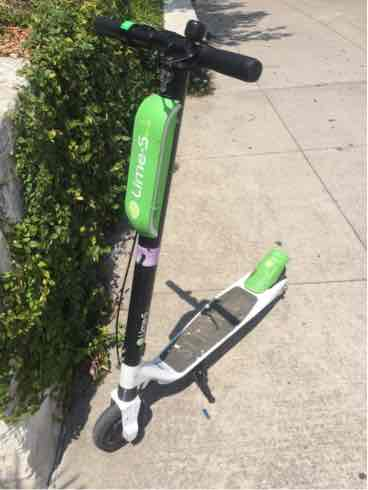scooter: (85, 2, 299, 466)
